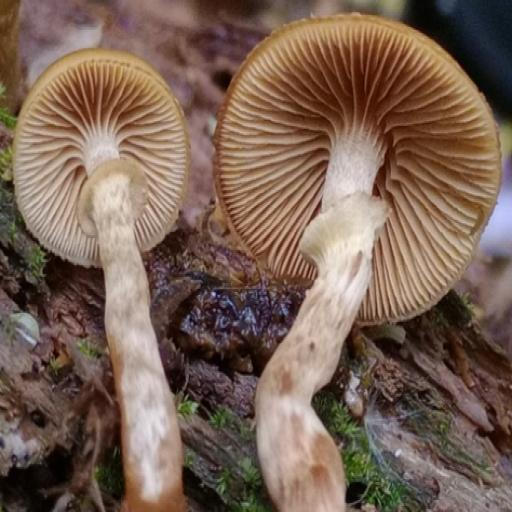Funeral Bell: (210, 9, 512, 512), (7, 40, 204, 508)
